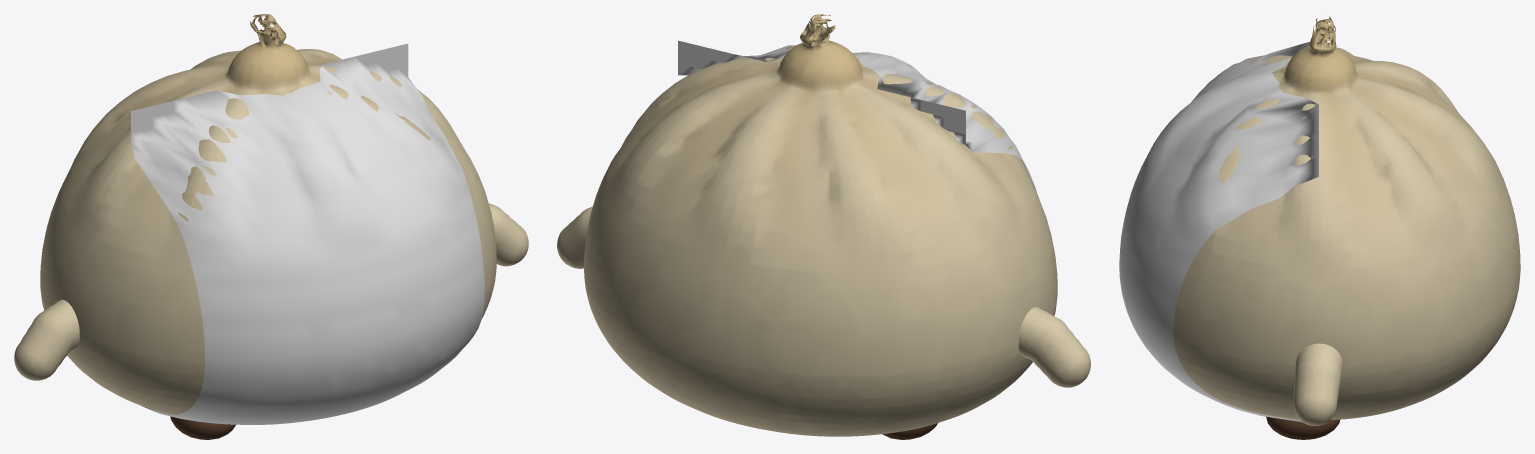
File: folk2_wonton.glb
3 renders of one model, left to right at view 1: azimuth 30°, elevation 25°; view 2: azimuth 150°, elevation 25°; view 3: azimuth 270°, elevation 25°, orthographic. The views are drawn at different scales.
Visible parts, largest first — view 1: wonton_face, wonton_body, wonton_arm_l, wonton_arm_r, wonton_foot_l; view 2: wonton_body, wonton_face, wonton_arm_l, wonton_arm_r; view 3: wonton_body, wonton_face, wonton_arm_r, wonton_foot_r.
Boxes of the visible parts, x1,y1,x2,y2 form: wonton_face: (131, 43, 484, 424); wonton_body: (40, 14, 496, 415); wonton_arm_l: (14, 299, 79, 380); wonton_arm_r: (489, 203, 528, 266); wonton_foot_l: (170, 416, 235, 439); wonton_body: (584, 14, 1057, 436); wonton_face: (678, 40, 1037, 194); wonton_arm_l: (1018, 307, 1090, 387); wonton_arm_r: (557, 206, 592, 268); wonton_body: (1173, 16, 1520, 419); wonton_face: (1119, 41, 1318, 422); wonton_arm_r: (1293, 343, 1342, 425); wonton_foot_r: (1266, 416, 1339, 439).
Bounding box in the file's own units: 1.34 × 0.995 × 0.9459.
